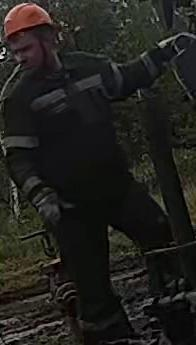gloves: (28, 172, 77, 242), (142, 28, 196, 81)
helmet: (3, 2, 53, 41)
vest: (1, 52, 123, 197)
